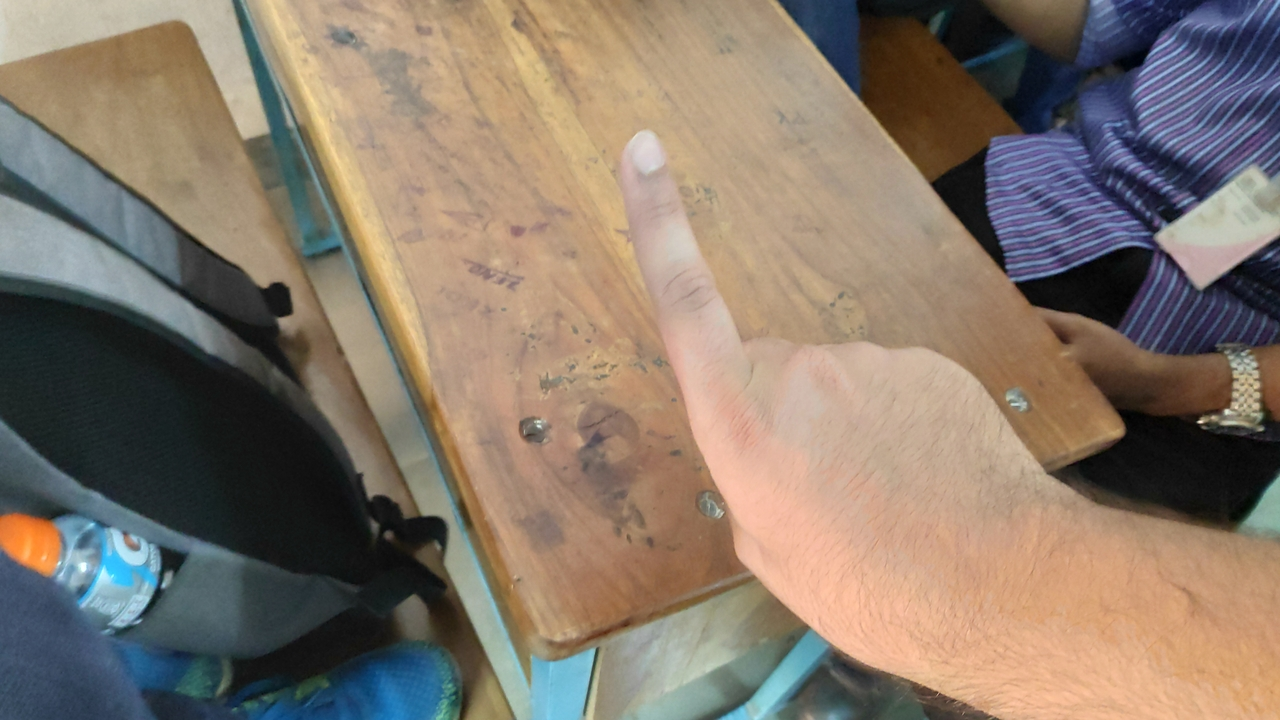fingertip: (612, 126, 678, 186)
